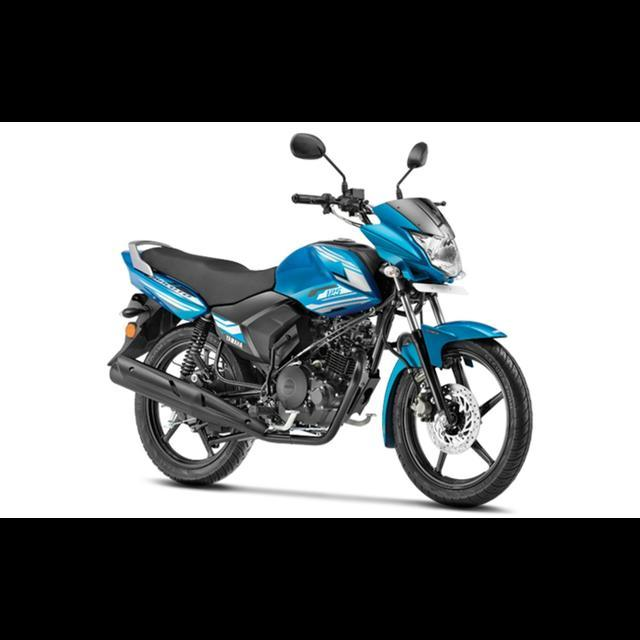motorcycle: (107, 127, 538, 511)
